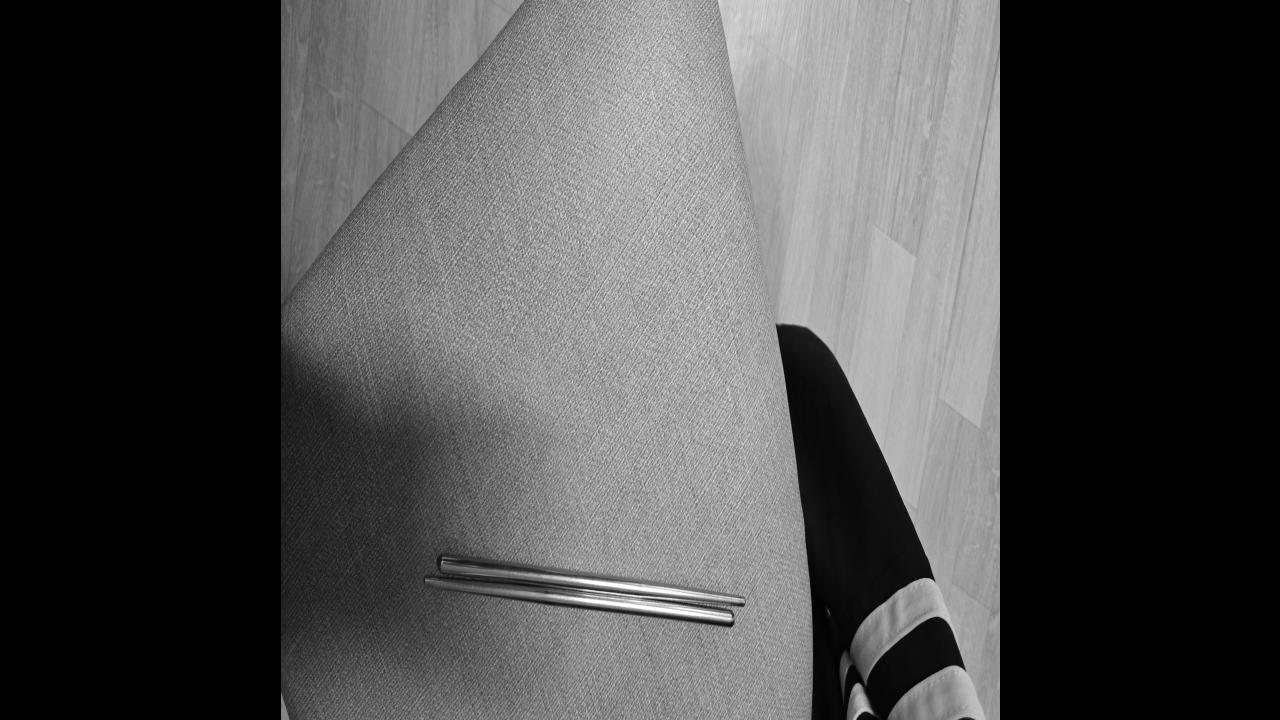chopstick: (418, 544, 748, 632)
